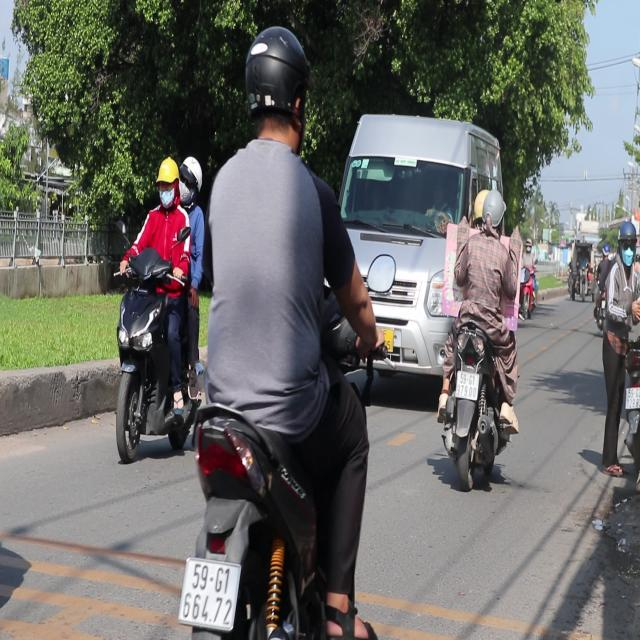helmet: (241, 25, 311, 149), (474, 187, 503, 232), (155, 157, 179, 209), (481, 188, 506, 236), (179, 156, 202, 203), (617, 218, 637, 270), (471, 186, 490, 227)
licenseplate: (174, 22, 383, 640), (111, 153, 199, 460), (435, 182, 522, 488)
nohelmet: (177, 558, 241, 632), (455, 370, 480, 400), (625, 387, 640, 409)
